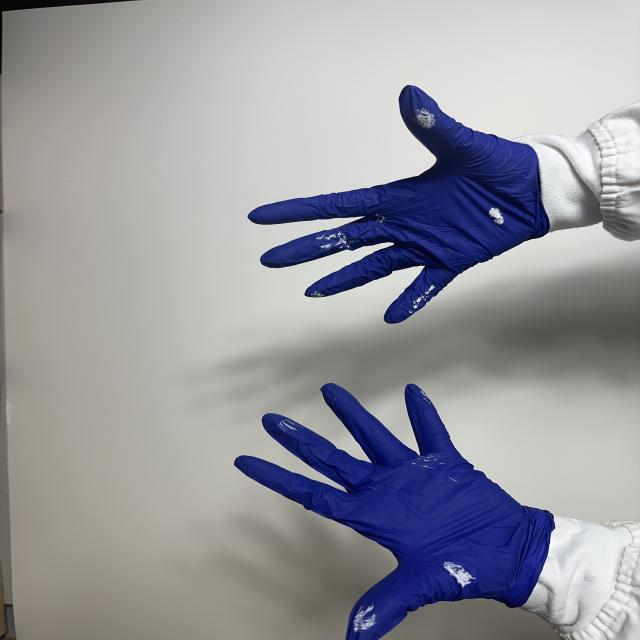gloves_contaminated: (235, 384, 554, 640), (249, 86, 550, 323)
